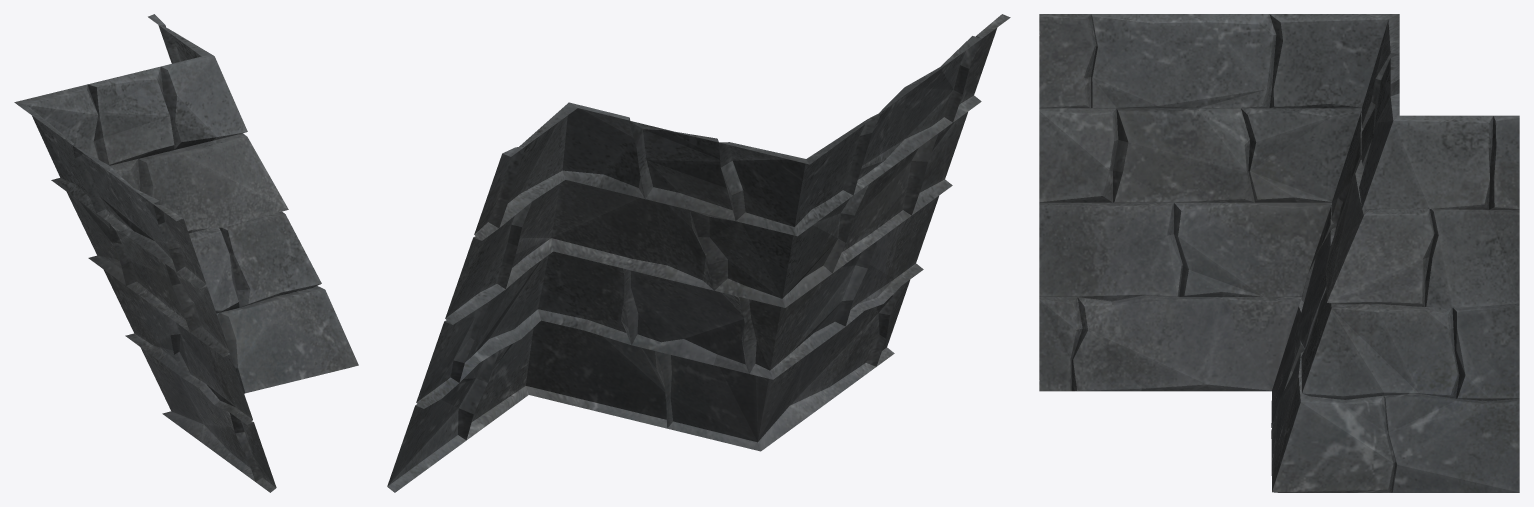
Rendered from WallSCurve2.fbx.
3 renders of one model, left to right at view 1: azimuth 30°, elevation 25°; view 2: azimuth 150°, elevation 25°; view 3: azimuth 270°, elevation 25°, orthographic. The views are drawn at different scales.
Parts seen in each view (by area): view 1: WALL_SCurve2; view 2: WALL_SCurve2; view 3: WALL_SCurve2.
Boxes of the visible parts, bbox=[...] form: WALL_SCurve2: bbox=[14, 14, 358, 492]; WALL_SCurve2: bbox=[387, 14, 1010, 492]; WALL_SCurve2: bbox=[1039, 14, 1519, 492].
Size of the model in its own units: 12.27 by 12.05 by 16.
Materials: 1 (1 with a texture image).
